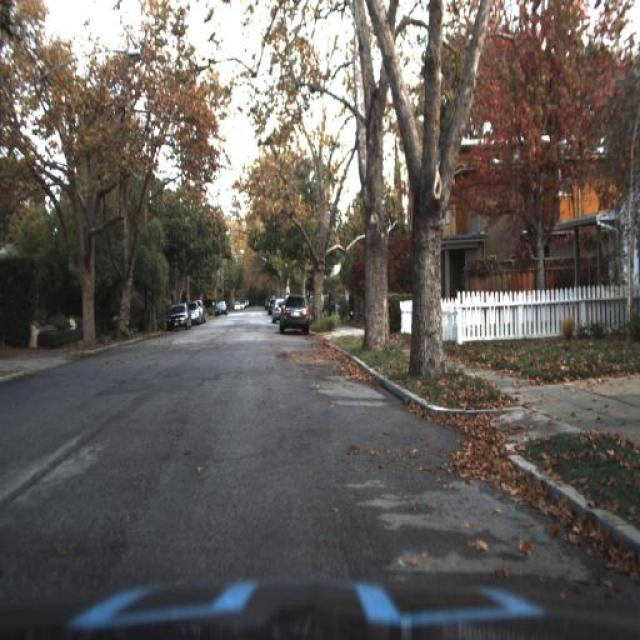car: (275, 288, 314, 338), (162, 300, 190, 332), (268, 294, 290, 324), (210, 292, 232, 318)
